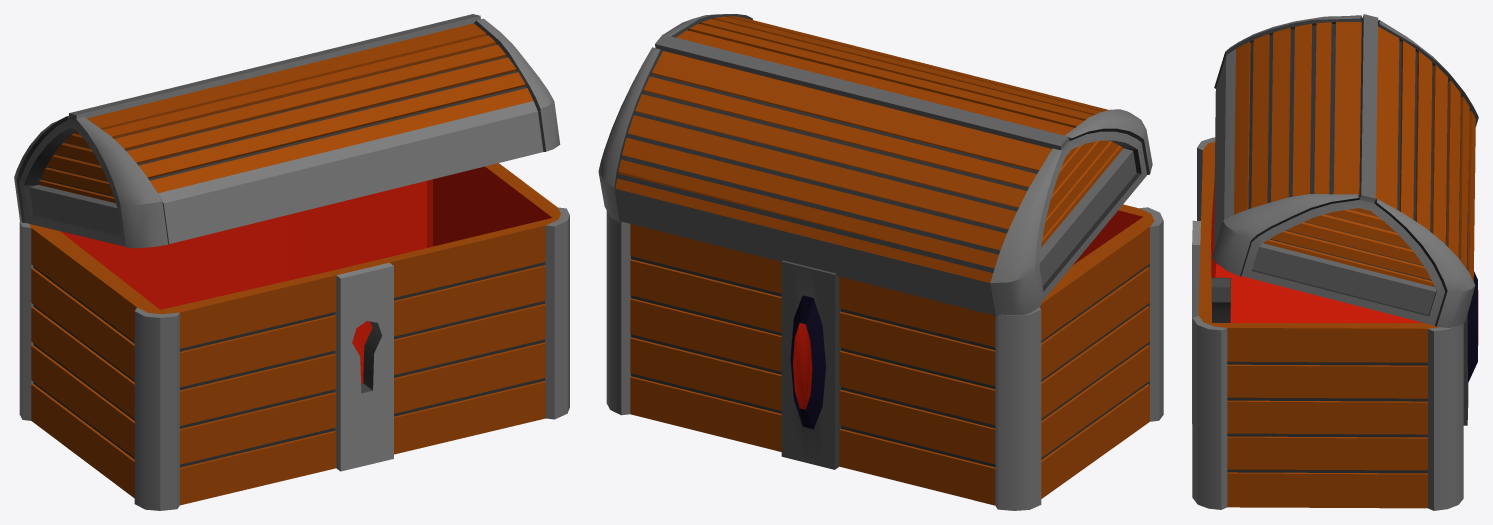
Rendered from Mimic_Opened_Toothless.fbx.
3 views of the same model, side by side, from view 1: azimuth 30°, elevation 25°; view 2: azimuth 150°, elevation 25°; view 3: azimuth 270°, elevation 25° (orthographic). The views are drawn at different scales.
Visible parts, largest first — view 1: Cube.001; view 2: Cube.001; view 3: Cube.001.
Boxes of the visible parts, left/top/right/bottom form: Cube.001: left=14, top=14, right=569, bottom=510; Cube.001: left=598, top=14, right=1163, bottom=510; Cube.001: left=1192, top=14, right=1478, bottom=510.
Size of the model in its own units: 110 by 80.96 by 67.72.
Materials: 2 (2 with a texture image).
